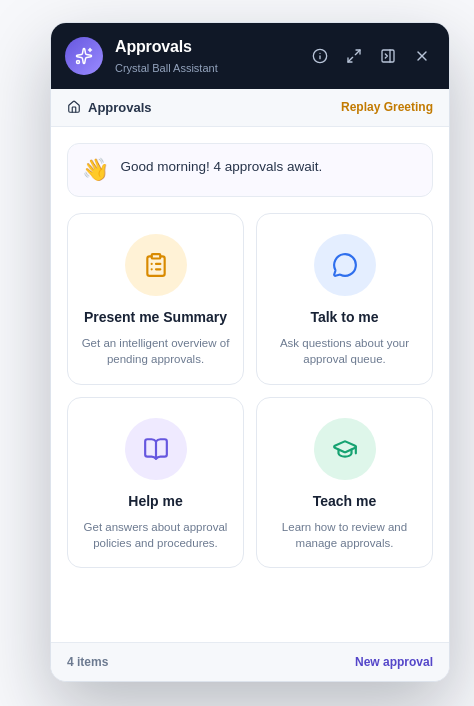
AssistantPanel › Help me › tells the user when the policy text is shown instead of an AI answer
Click the button "Help me Get answers about approval policies and procedures." at (156, 482), box [67,397,244,568]
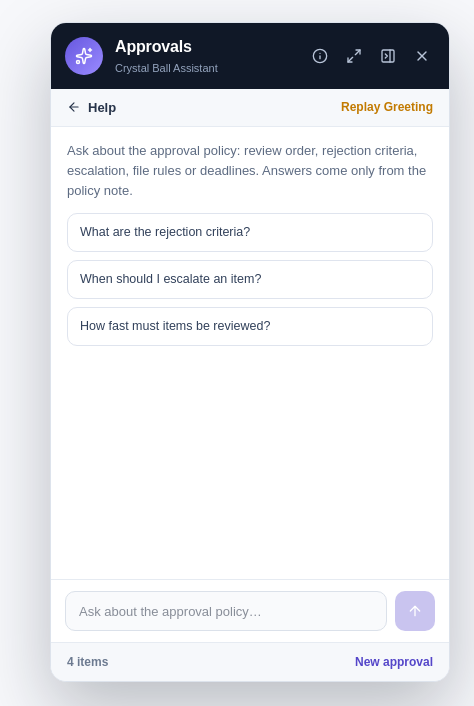
Type "Rejection criteria?" into the field named "your question" at (226, 611), box [65,591,387,631]
Then press Enter
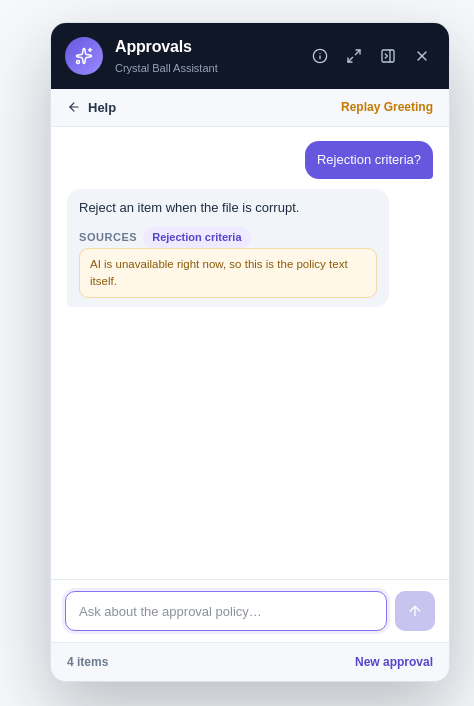
Result: the text "AI is unavailable" is shown at [90,258,348,287]
